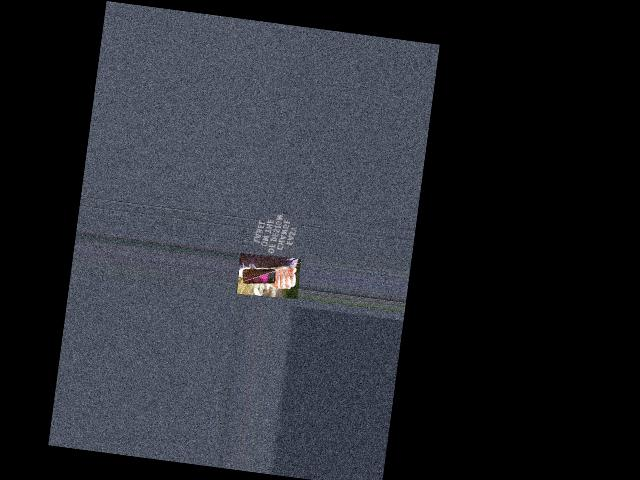beer: (241, 264, 297, 289)
